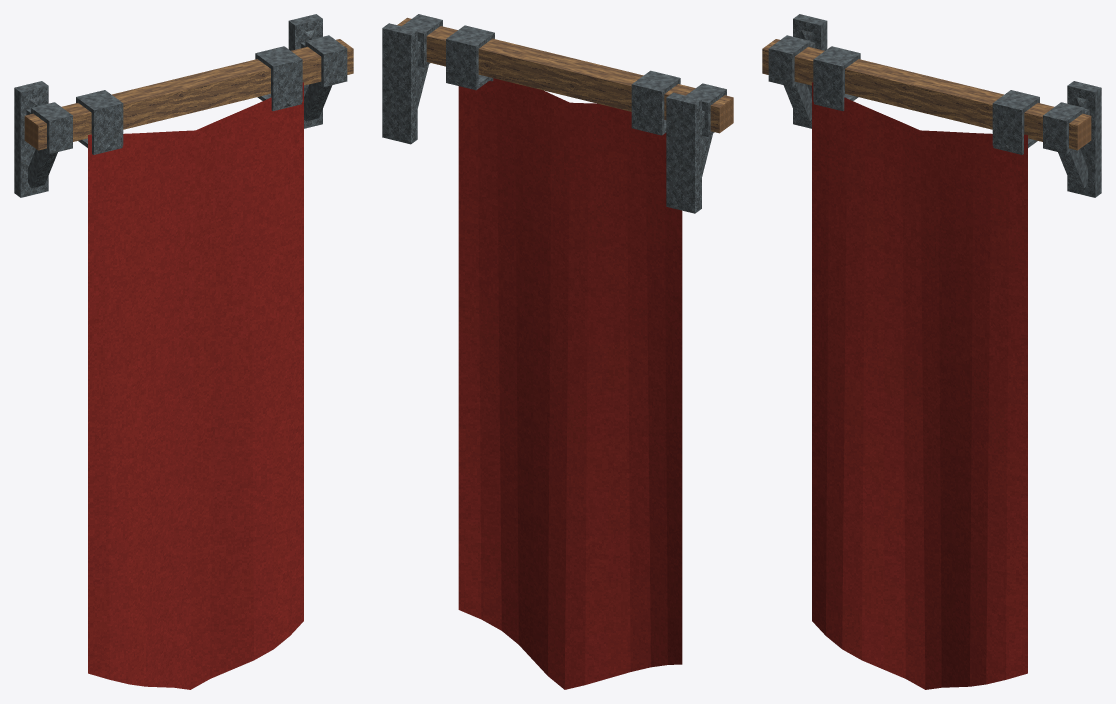
The model's file is pixel-fantasy-giant-keep-banner.glb.
3 views of the same model, side by side, from view 1: azimuth 30°, elevation 25°; view 2: azimuth 150°, elevation 25°; view 3: azimuth 330°, elevation 25° (orthographic). The views are drawn at different scales.
Parts seen in each view (by area): view 1: Cloth_keep-grand, HardwareAssembly_v005; view 2: Cloth_keep-grand, HardwareAssembly_v005; view 3: Cloth_keep-grand, HardwareAssembly_v005.
Part boxes in pixels (x1,y1,x2,y2): Cloth_keep-grand: (88, 82, 303, 689); HardwareAssembly_v005: (14, 14, 353, 197); Cloth_keep-grand: (458, 78, 682, 689); HardwareAssembly_v005: (382, 14, 733, 213); Cloth_keep-grand: (812, 82, 1027, 689); HardwareAssembly_v005: (762, 14, 1101, 197).
Size of the model in its own units: 15.33 by 28.83 by 3.07.
Materials: 4 (4 with a texture image).
